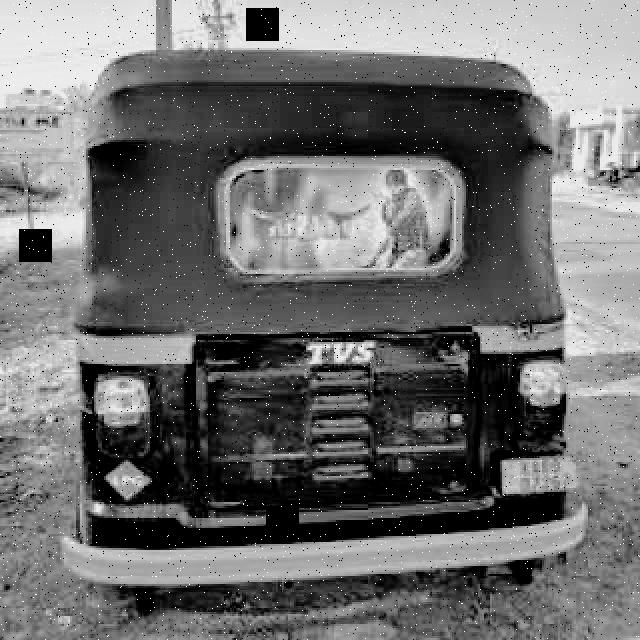Auto-Rickshaw: (54, 38, 588, 614)
